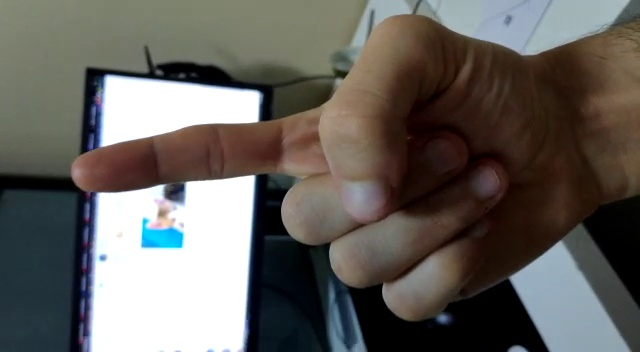One: (42, 18, 607, 335)
